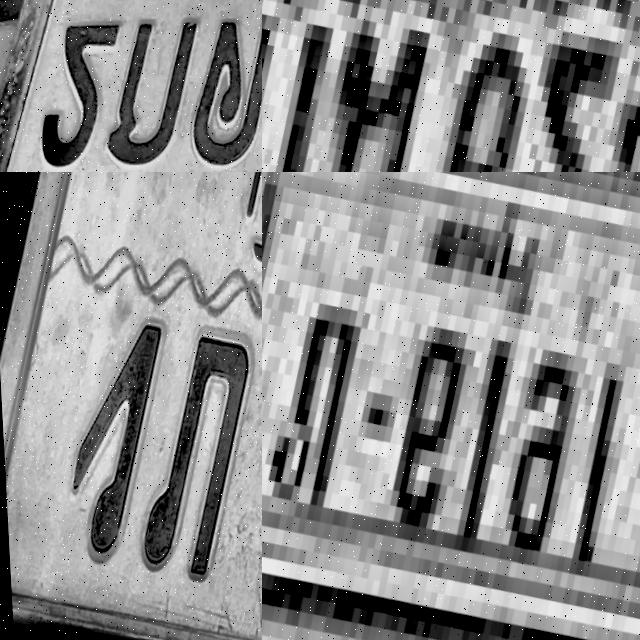license-plate: (262, 172, 640, 640), (0, 172, 262, 640), (262, 0, 640, 172), (0, 0, 262, 172)
